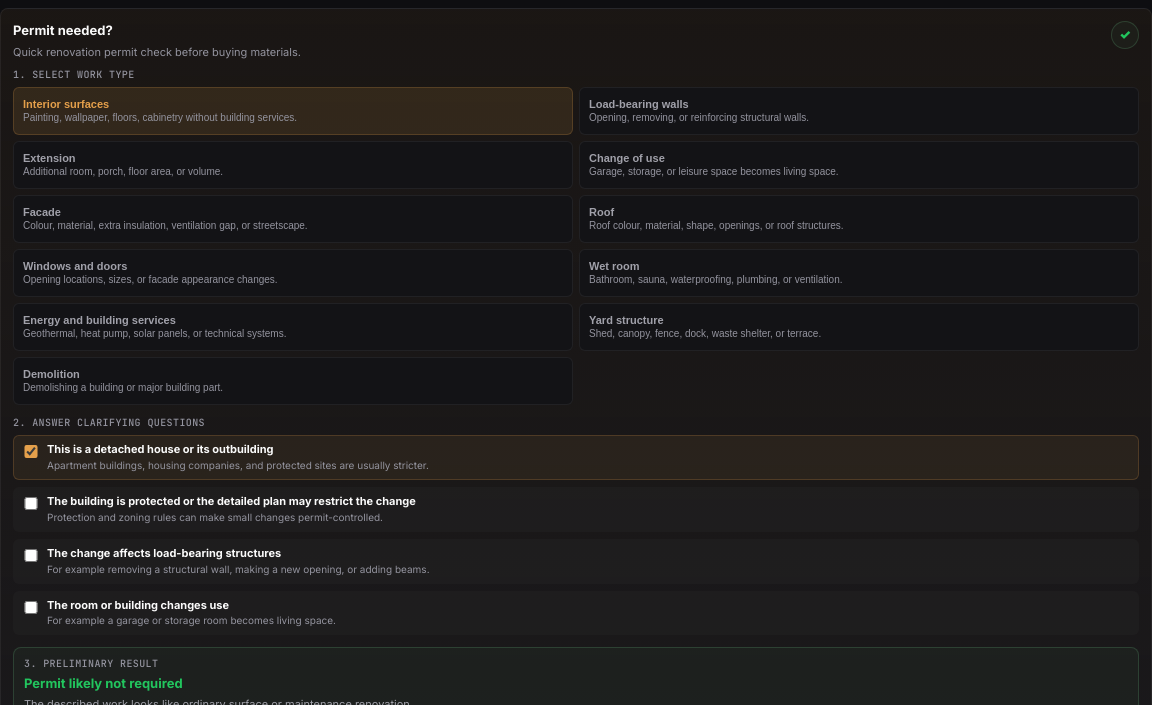
Test: PermitCheckerPanel › surfaces authority-check disclaimer for protected buildings
Click the button "Roof": (716, 226) [579, 195, 1139, 243]
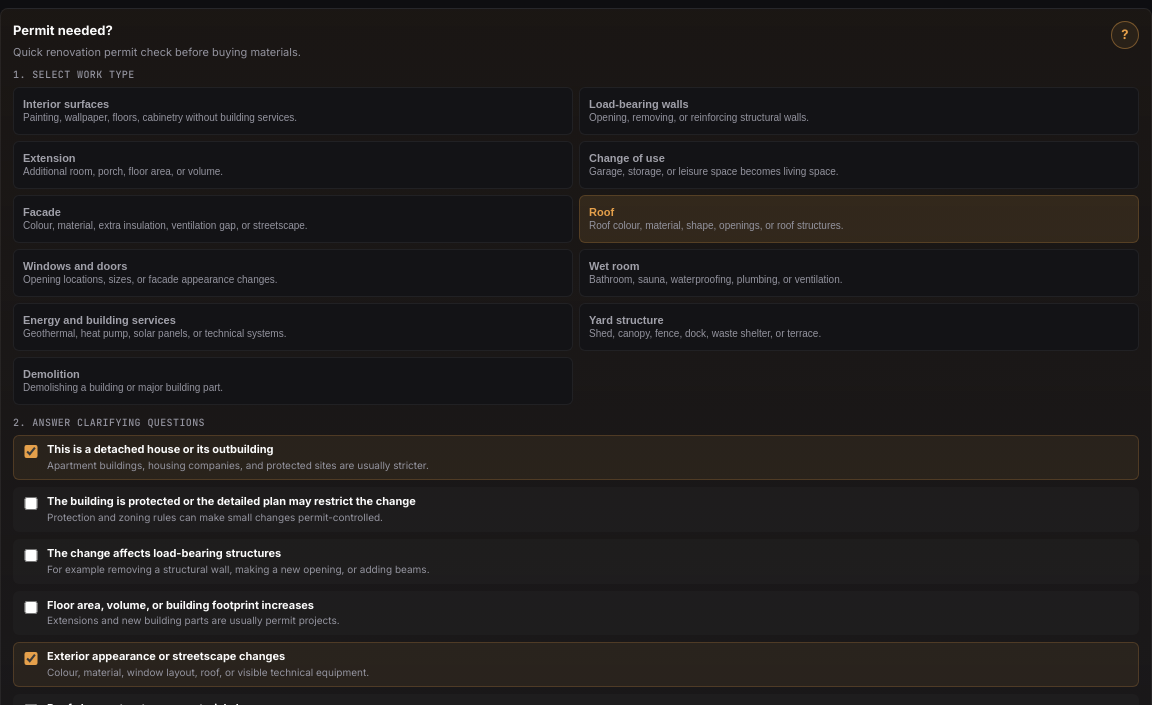
Click the checkbox labelled "protected or the detailed plan": (31, 504) [22, 497, 40, 510]
(page scrolled)
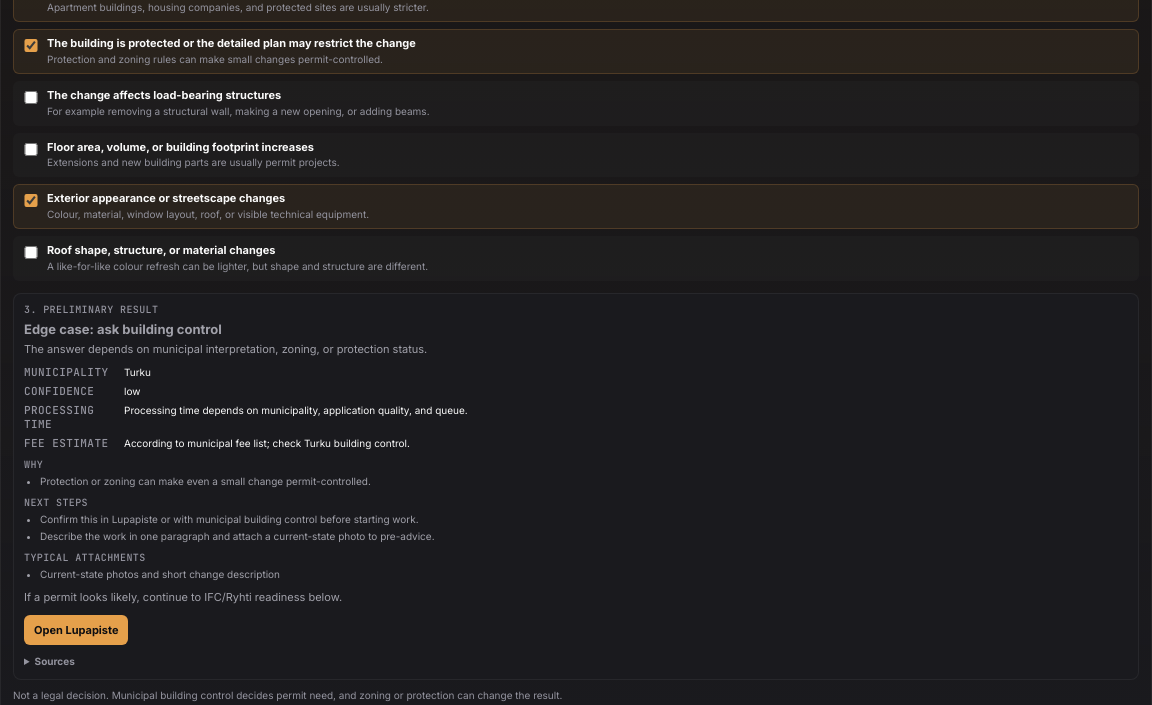
Expected: the text "Not a legal decision" is shown, [13, 689, 562, 701]
Result: the text "Edge case: ask building control" is shown at [24, 321, 222, 337]
